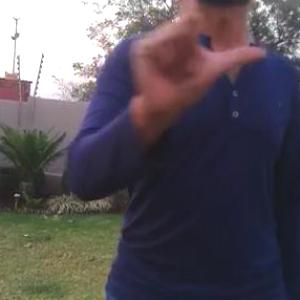land_hand: (112, 0, 266, 124)
